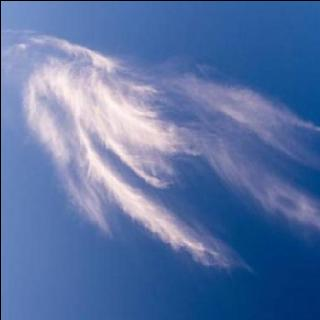Cirrus: (0, 12, 320, 282)
